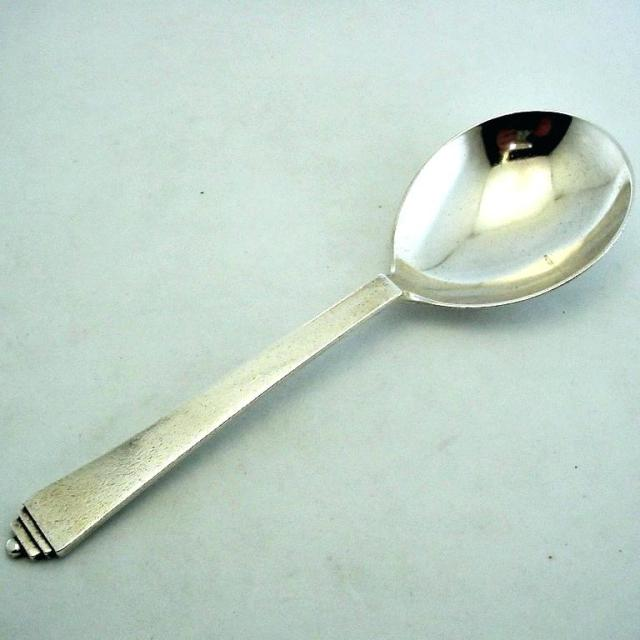spoon: (3, 99, 640, 576)
